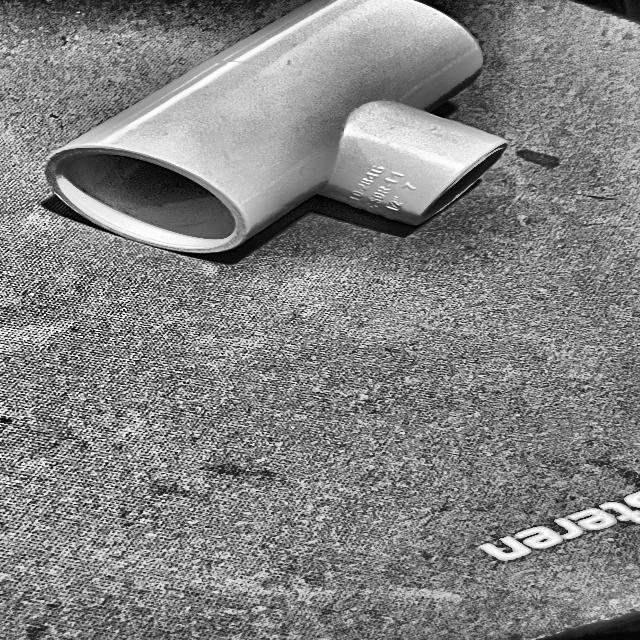EQUALTEE: (43, 0, 508, 256)
